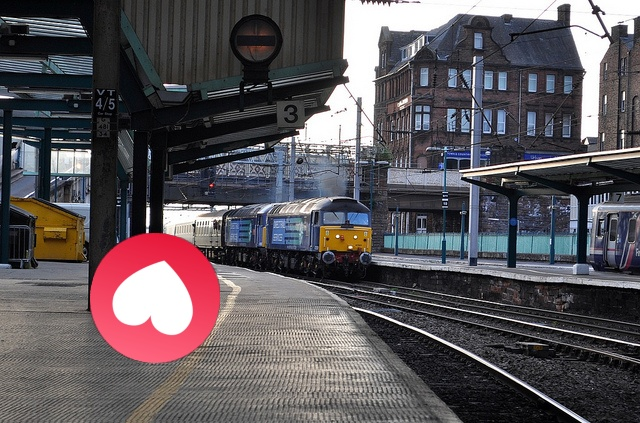love: (90, 233, 220, 363)
